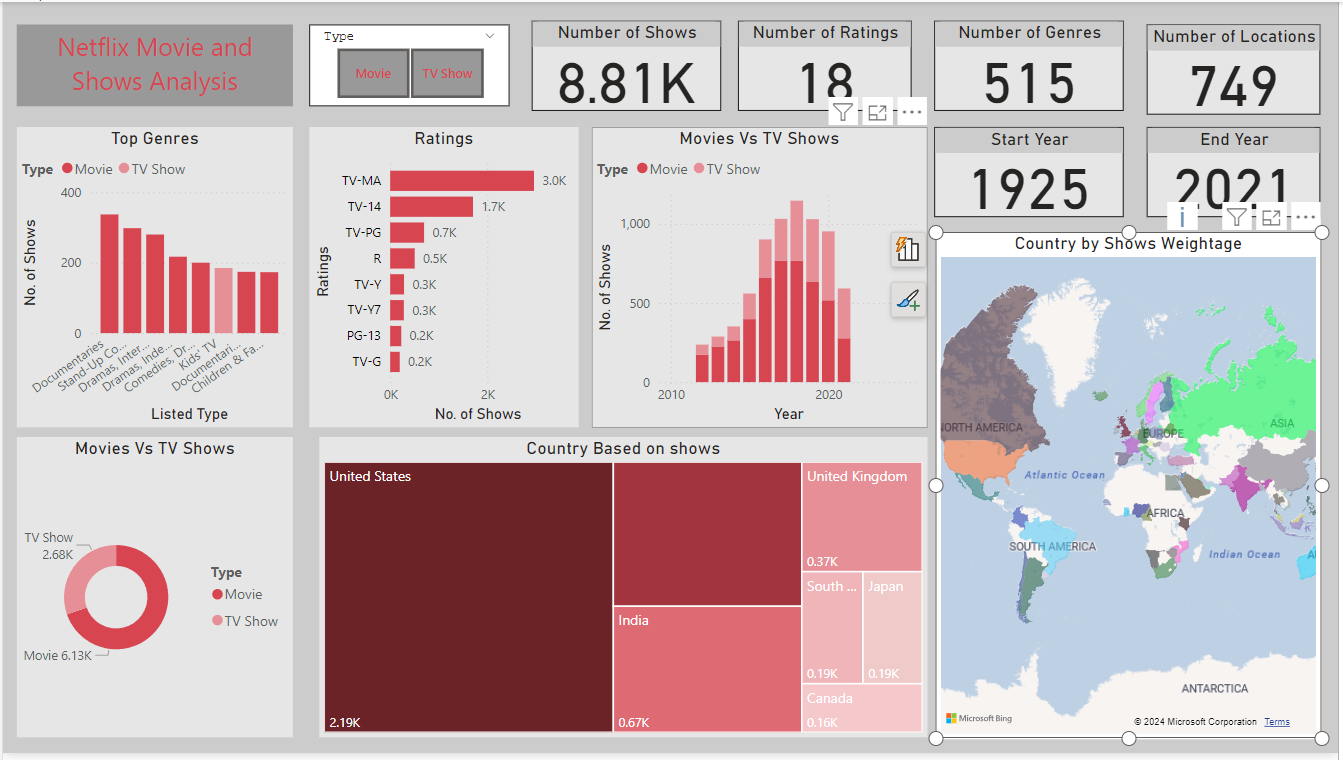

What the dashboard file says about the page in this screenshot:
{"tool":"powerbi","page":{"name":"Page 1","canvas":[1280,720],"ordinal":0},"visuals":[{"type":"textbox","box":[13.3,21.7,265,78.3],"z":0},{"type":"slicer","fields":{"Values":["netflix_titles.type"]},"box":[293.3,21.7,191.7,78.3],"z":1},{"type":"card","title":"Number of Shows","fields":{"Values":["Count(netflix_titles.show_id)"]},"box":[506.7,18.3,181.7,86.7],"z":2},{"type":"card","title":"Number of Ratings","fields":{"Values":["Count(netflix_titles.rating)"]},"box":[705,18.3,166.7,86.7],"z":3},{"type":"card","title":"Number of Genres","fields":{"Values":["Count(netflix_titles.listed_in)"]},"box":[893.3,18.3,181.7,86.7],"z":4},{"type":"card","title":"Number of Locations","fields":{"Values":["Count(netflix_titles.country)"]},"box":[1096.7,21.7,166.7,86.7],"z":5},{"type":"card","title":"End Year","fields":{"Values":["Max(netflix_titles.release_year)"]},"box":[1096.7,120,166.7,86.7],"z":6},{"type":"card","title":"Start Year","fields":{"Values":["Min(netflix_titles.release_year)"]},"box":[893.3,120,181.7,86.7],"z":7},{"type":"donutChart","title":"Movies Vs TV Shows","fields":{"Category":["netflix_titles.type"],"Y":["CountNonNull(netflix_titles.title)"]},"box":[13.3,416.7,265,288.3],"z":8},{"type":"columnChart","title":"Movies Vs TV Shows","fields":{"Category":["netflix_titles.release_year"],"Y":["Count(netflix_titles.show_id)"],"Series":["netflix_titles.type"]},"box":[565,120,321.7,288.3],"z":9},{"type":"columnChart","title":"Top Genres","fields":{"Series":["netflix_titles.type"],"Category":["netflix_titles.listed_in"],"Y":["CountNonNull(netflix_titles.show_id)"]},"box":[13.3,120,265,288.3],"z":10},{"type":"barChart","title":"Ratings","fields":{"Category":["netflix_titles.rating"],"Y":["CountNonNull(netflix_titles.show_id)"]},"box":[293.3,120,258.3,288.3],"z":11},{"type":"treemap","title":"Country Based on shows","fields":{"Values":["CountNonNull(netflix_titles.show_id)"],"Group":["netflix_titles.country"]},"box":[303.3,416.7,583.3,288.3],"z":12},{"type":"filledMap","title":"Country by Shows Weightage","fields":{"Series":["netflix_titles.show_id"],"Category":["netflix_titles.country"]},"box":[894,220,370,486],"z":13}]}

Visuals, with their boxes in screenshot pixels (x1, y1, x2, y2), scaled from the page's 1280x720 canvas onto the 1343x760 screenshot:
textbox: region(14, 23, 292, 106)
slicer - netflix_titles.type: region(308, 23, 509, 106)
"Number of Shows" card: region(532, 19, 722, 111)
"Number of Ratings" card: region(740, 19, 915, 111)
"Number of Genres" card: region(937, 19, 1128, 111)
"Number of Locations" card: region(1151, 23, 1326, 114)
"End Year" card: region(1151, 127, 1326, 218)
"Start Year" card: region(937, 127, 1128, 218)
"Movies Vs TV Shows" donutChart: region(14, 440, 292, 744)
"Movies Vs TV Shows" columnChart: region(593, 127, 930, 431)
"Top Genres" columnChart: region(14, 127, 292, 431)
"Ratings" barChart: region(308, 127, 579, 431)
"Country Based on shows" treemap: region(318, 440, 930, 744)
"Country by Shows Weightage" filledMap: region(938, 232, 1326, 745)
